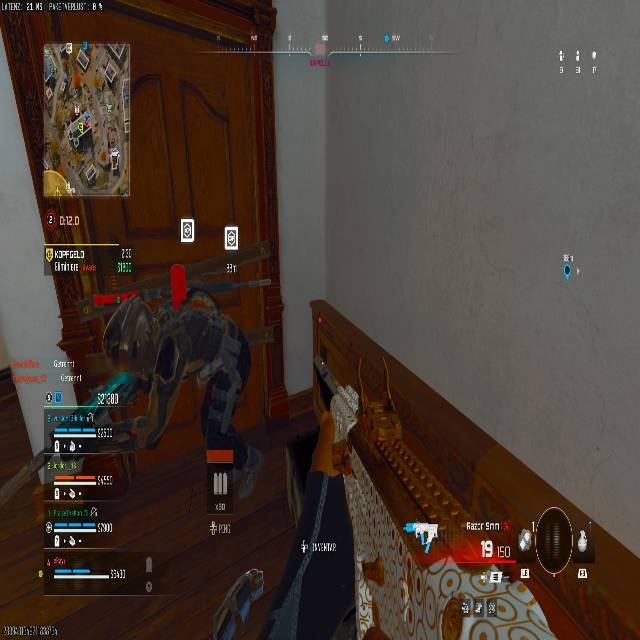player: (67, 265, 260, 488)
